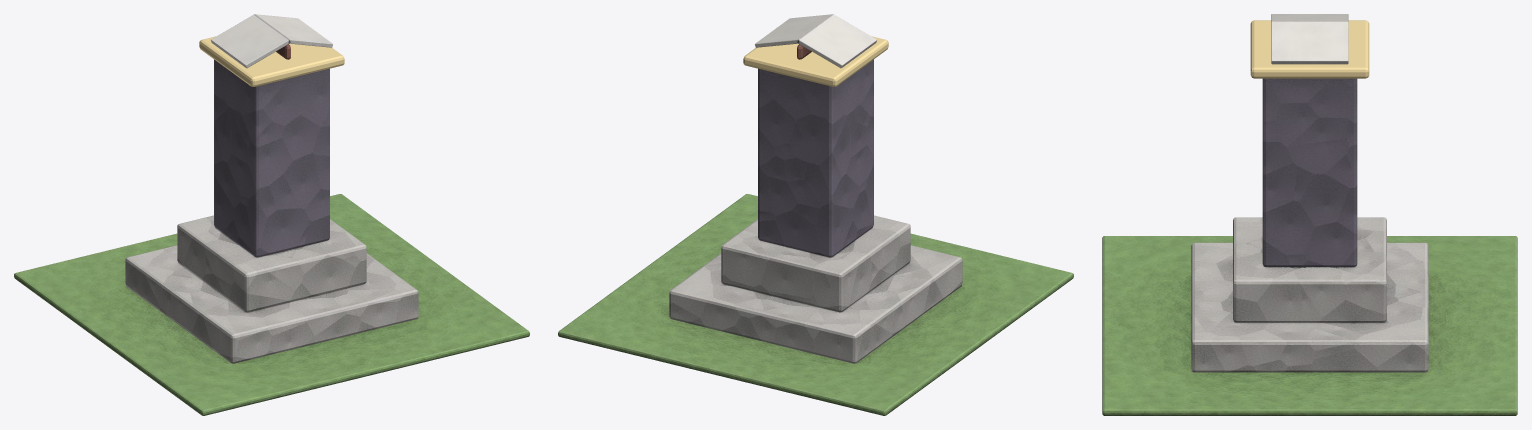
The model's file is buch_horror.glb.
3 renders of one model, left to right at view 1: azimuth 30°, elevation 25°; view 2: azimuth 150°, elevation 25°; view 3: azimuth 270°, elevation 25°, orthographic. The views are drawn at different scales.
Visible parts, largest first — view 1: buch_horror, buch_horror_details; view 2: buch_horror, buch_horror_details; view 3: buch_horror, buch_horror_details.
Part boxes in pixels (x1,y1,x2,y2): buch_horror: [14, 14, 529, 415]; buch_horror_details: [199, 36, 344, 86]; buch_horror: [558, 14, 1073, 415]; buch_horror_details: [743, 36, 888, 86]; buch_horror: [1102, 14, 1517, 415]; buch_horror_details: [1250, 20, 1369, 78].
Bounding box in the file's own units: 0.7 × 0.5729 × 0.7.
2 materials, 1 textured.
